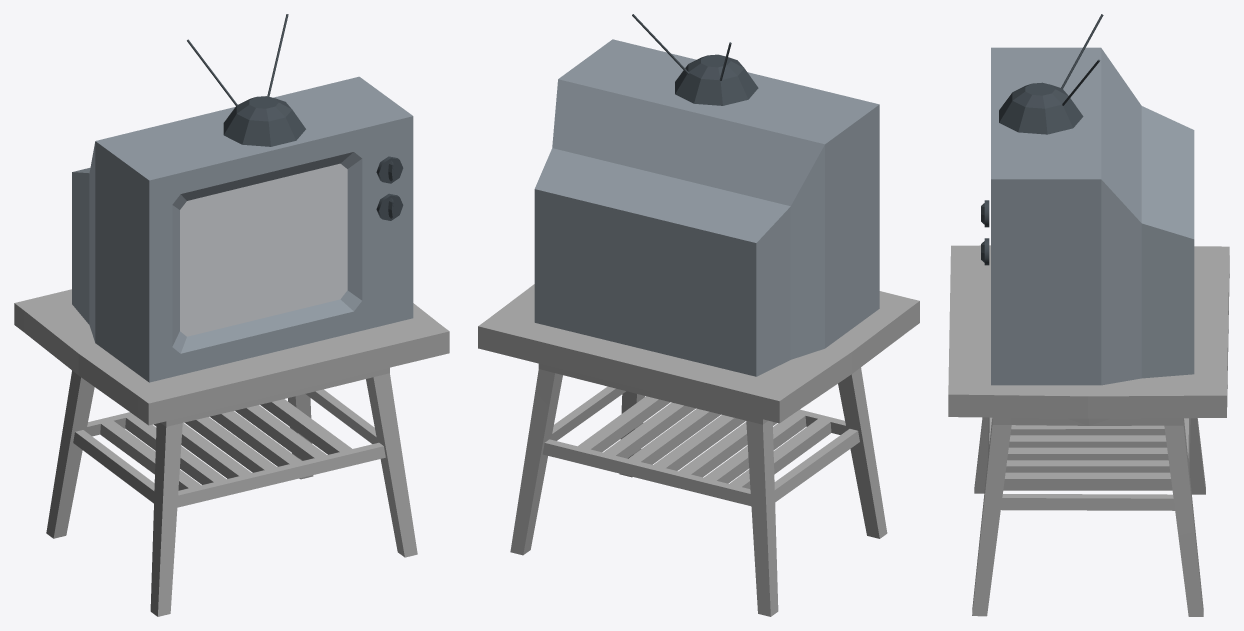
The model's file is TV + Table.FBX.
3 renders of one model, left to right at view 1: azimuth 30°, elevation 25°; view 2: azimuth 150°, elevation 25°; view 3: azimuth 270°, elevation 25°, orthographic. The views are drawn at different scales.
Visible parts, largest first — view 1: Box003, Box002, Cylinder005; view 2: Box003, Box002, Cylinder005; view 3: Box003, Box002, Cylinder005.
Part boxes in pixels (box(x1,y1,x2,y2)): Box003: box(72, 76, 413, 382); Box002: box(14, 289, 449, 616); Cylinder005: box(187, 14, 305, 146); Box003: box(534, 39, 879, 376); Box002: box(478, 284, 919, 616); Cylinder005: box(632, 14, 758, 105); Box003: box(981, 47, 1194, 385); Box002: box(948, 245, 1229, 616); Cylinder005: box(999, 14, 1103, 134).
Bounding box in the file's own units: 172 × 277 × 135.
